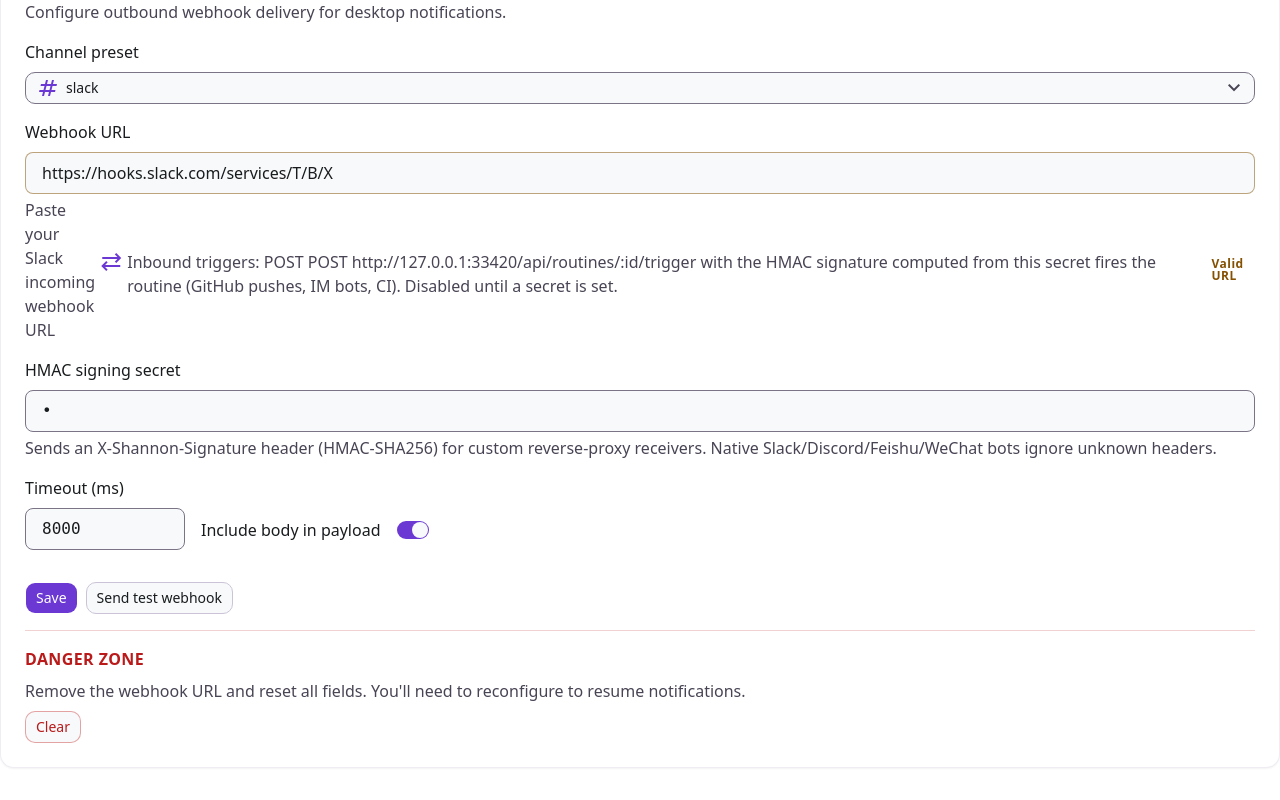
Scenario: NotificationsSettings — webhook clear › disables the clear button while the clear is in flight
(page scrolled)
What coordinates should you click on to do the following:
click the button "Clear"
I would click on:
 (53, 727)
Its box is left=25, top=711, right=81, bottom=743.
(page scrolled)
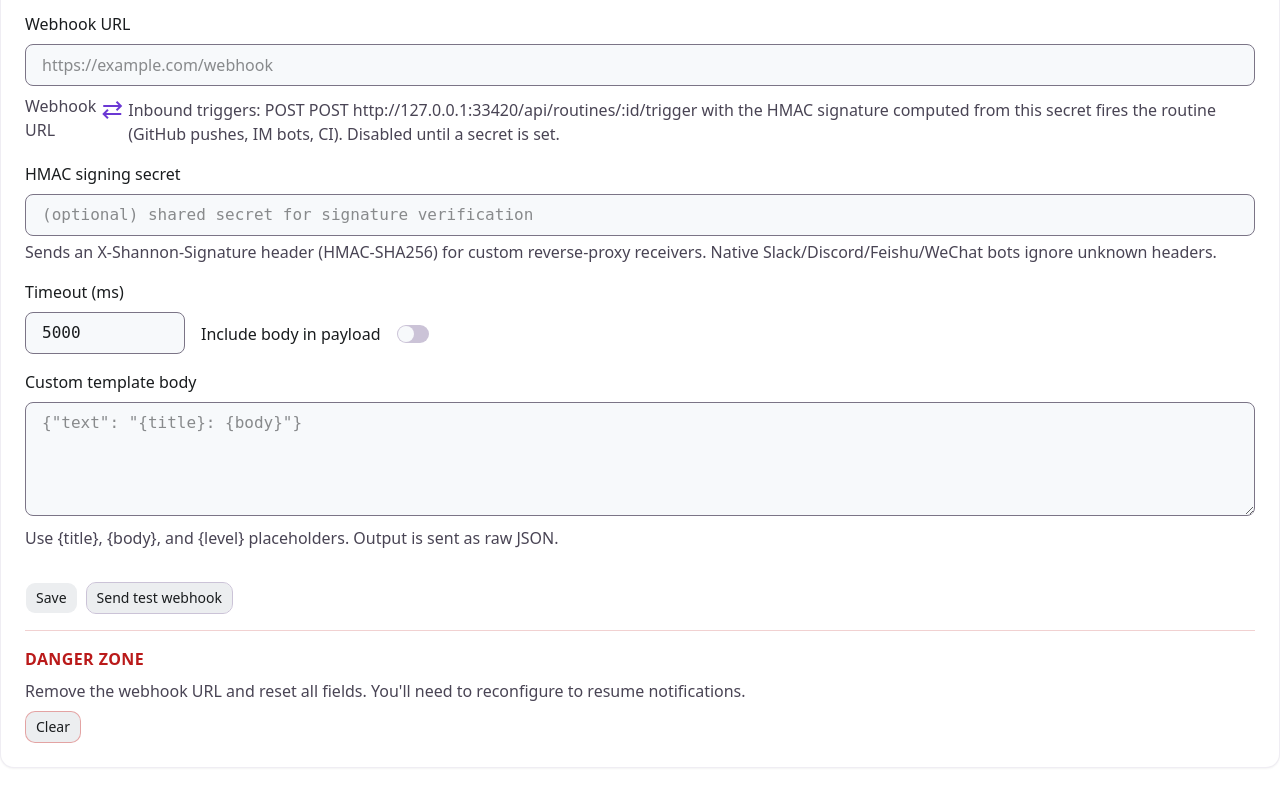
Result: the button named "Clearing" is disabled at left=25, top=711, right=81, bottom=743
